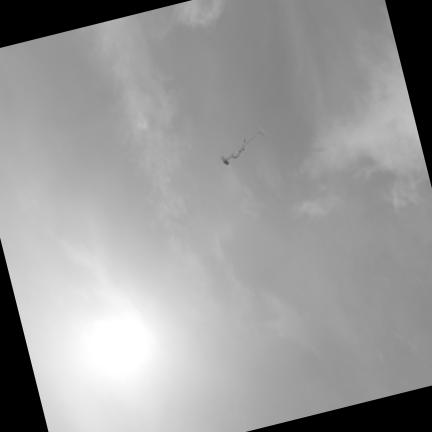Shahed: (221, 126, 265, 164)
